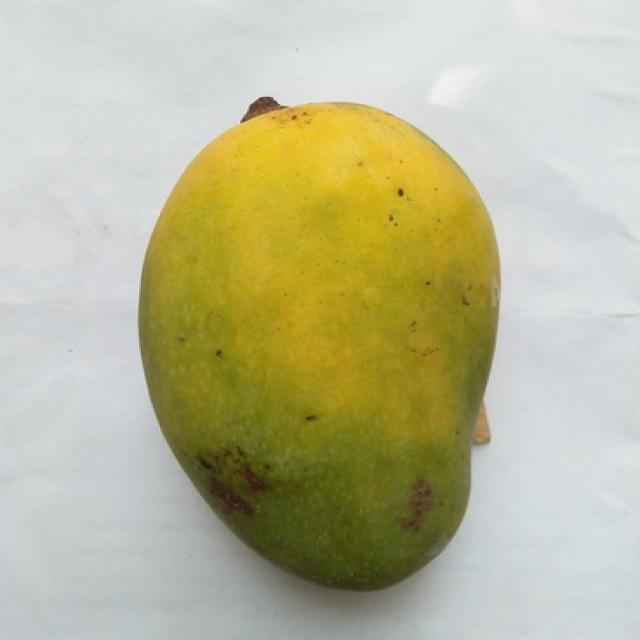Mango: (139, 98, 499, 590)
